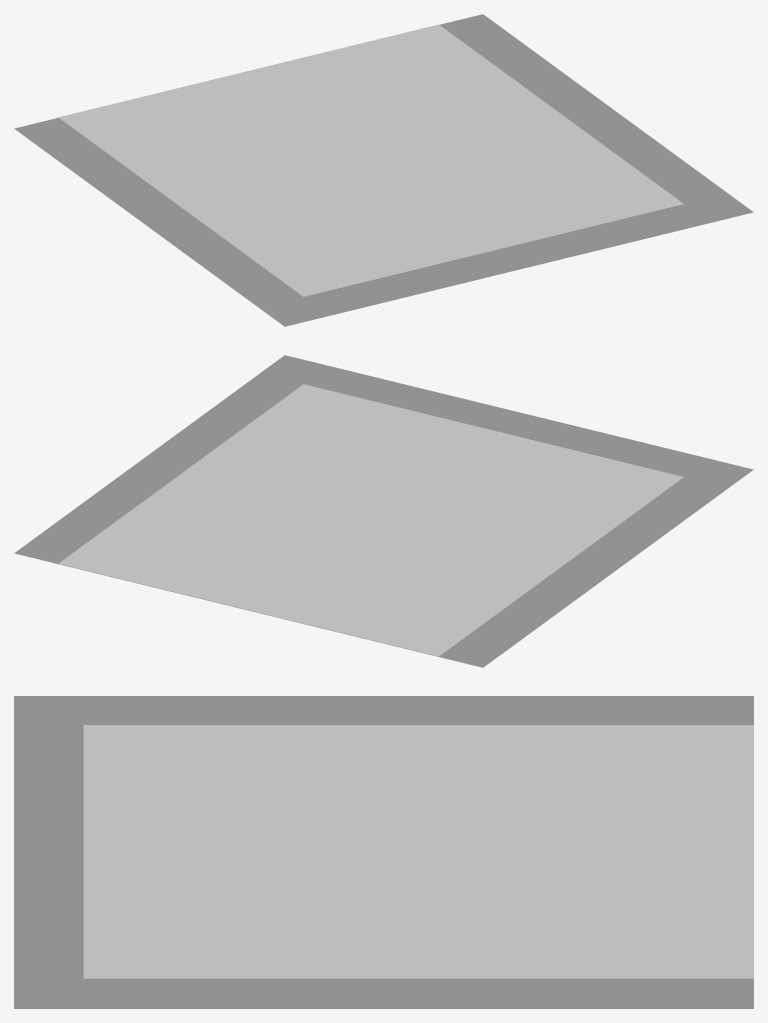
Rendered from tile_for_home_1x1_022.glb.
The picture shows the model from 3 angles, top to bottom: view 1: azimuth 30°, elevation 25°; view 2: azimuth 150°, elevation 25°; view 3: azimuth 270°, elevation 25°; orthographic projection. The views are drawn at different scales.
Parts seen in each view (by area): view 1: tile_for_home_1x1_022; view 2: tile_for_home_1x1_022; view 3: tile_for_home_1x1_022.
Part boxes in pixels (x1,y1,x2,y2): tile_for_home_1x1_022: (14,14,753,326); tile_for_home_1x1_022: (14,355,753,667); tile_for_home_1x1_022: (14,696,753,1008).
Size of the model in its own units: 8 by 0.00737 by 8.
1 material, 1 textured.
